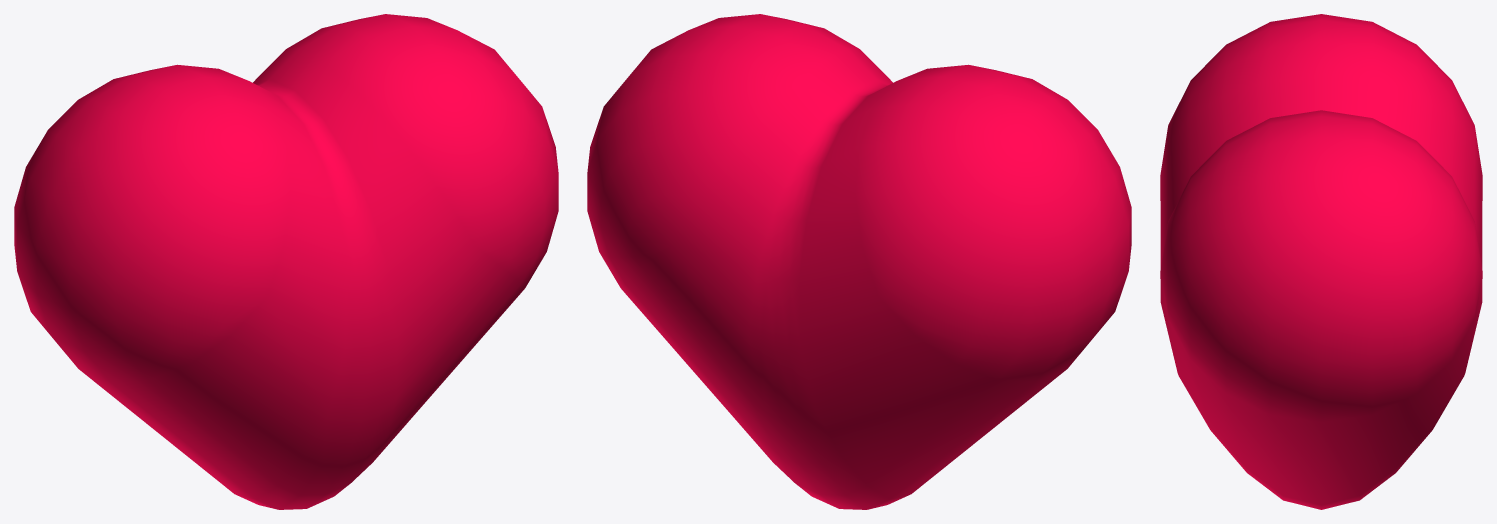
Rendered from heart.glb.
3 renders of one model, left to right at view 1: azimuth 30°, elevation 25°; view 2: azimuth 150°, elevation 25°; view 3: azimuth 270°, elevation 25°, orthographic. The views are drawn at different scales.
Parts seen in each view (by area): view 1: Heart; view 2: Heart; view 3: Heart.
Boxes of the visible parts, x1,y1,x2,y2 form: Heart: (14,14,558,509); Heart: (587,14,1131,509); Heart: (1160,14,1482,509).
Size of the model in its own units: 1.69 by 1.45 by 1.
